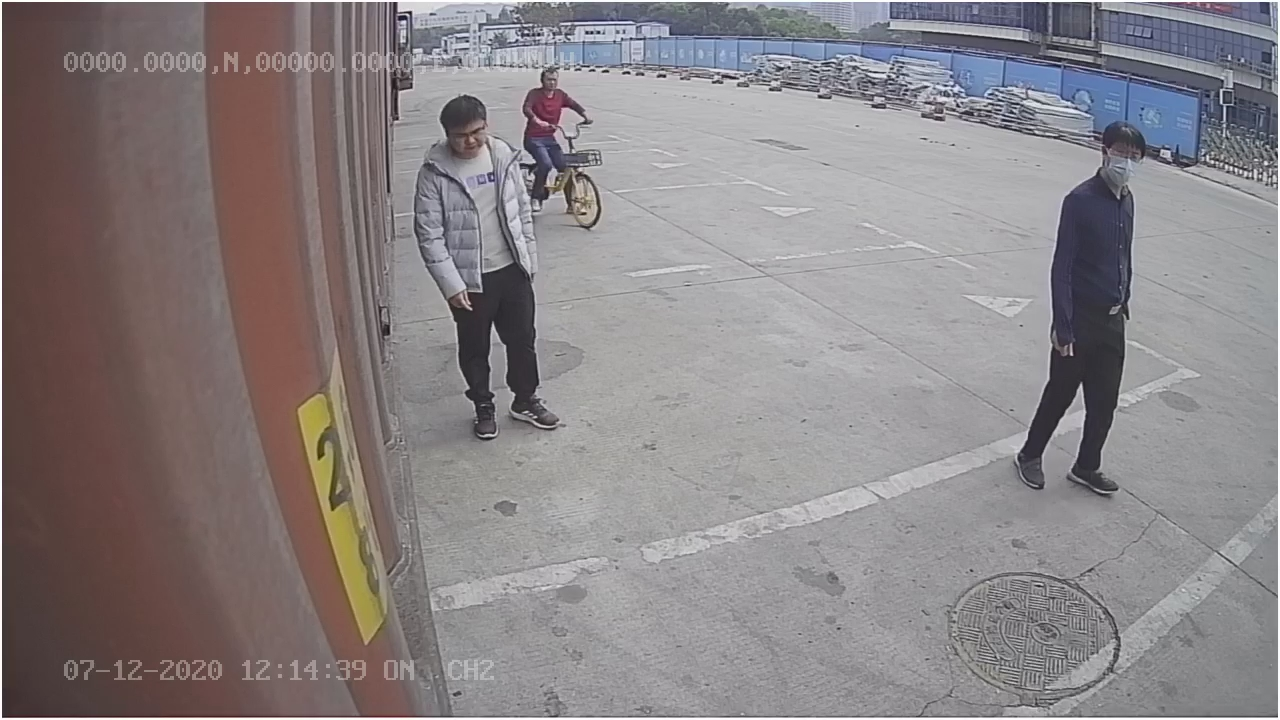person: (1007, 108, 1147, 495)
